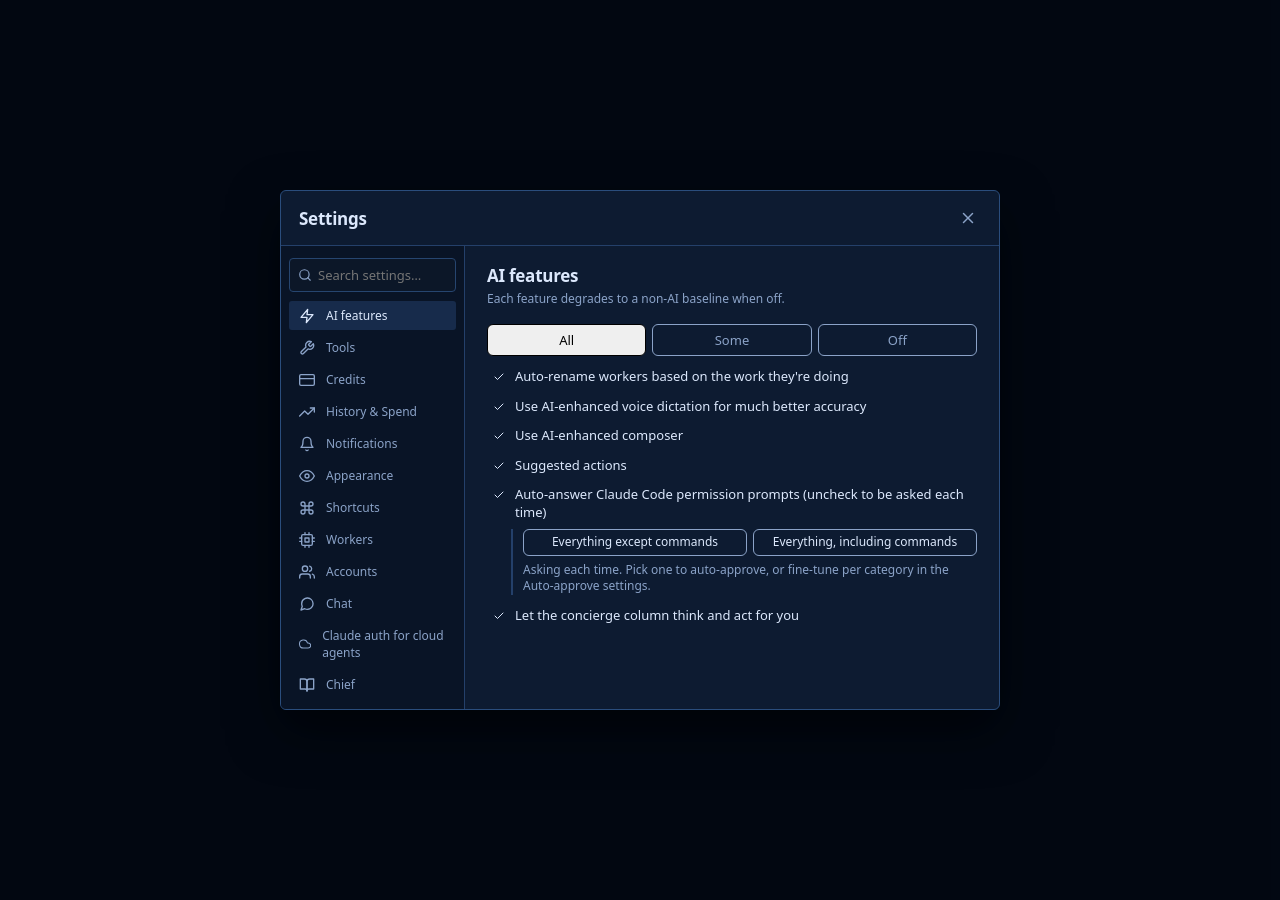
Test case: SettingsDialog — the Chat category › searching username resolves to Chat and NOT to Accounts
The image size is (1280, 900).
Type "username" into the field labelled "Search settings". click: (372, 275)
box: [289,258,456,292]
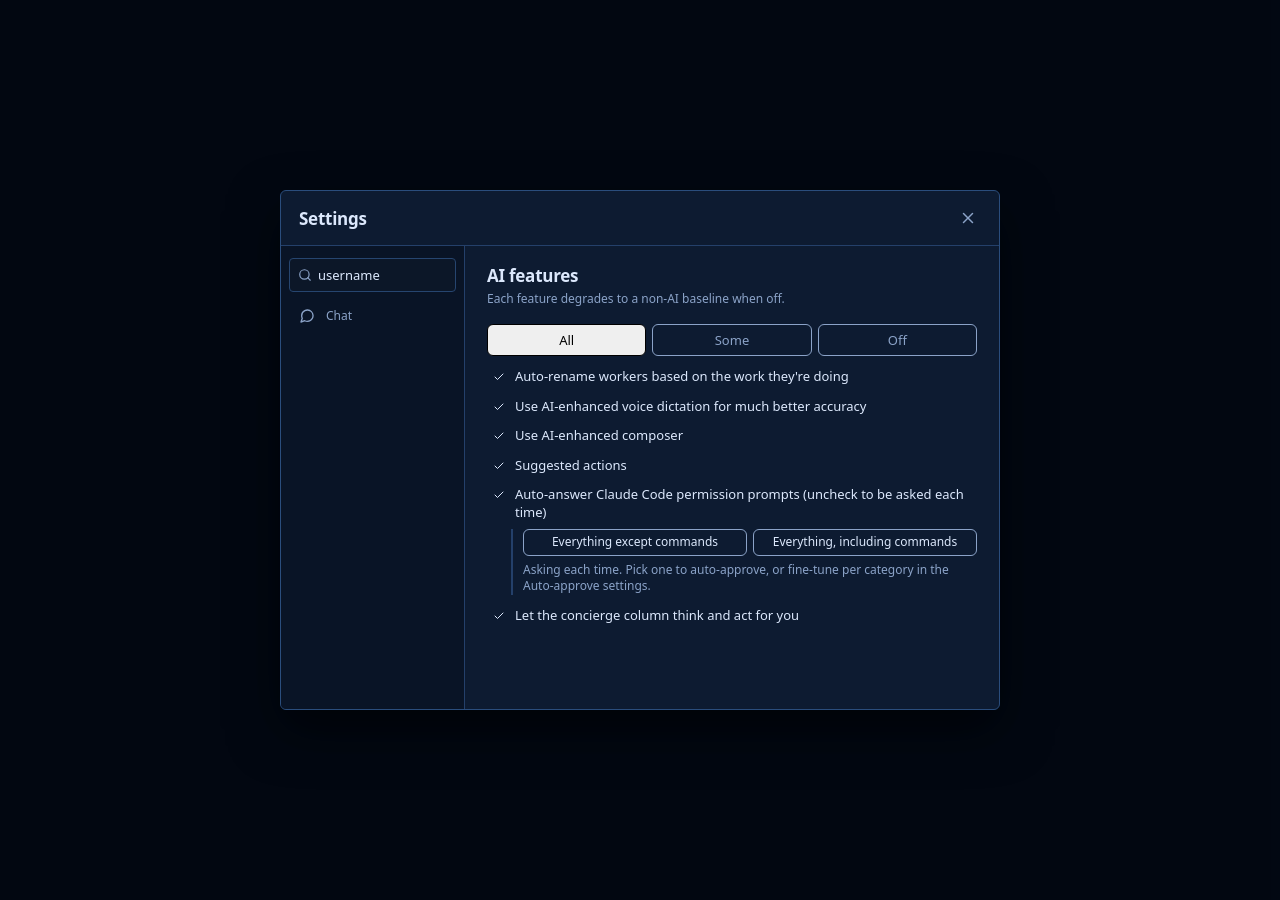
Expected: the button "Chat" is shown, [289,301,456,330]
Now the button "Accounts" is gone
